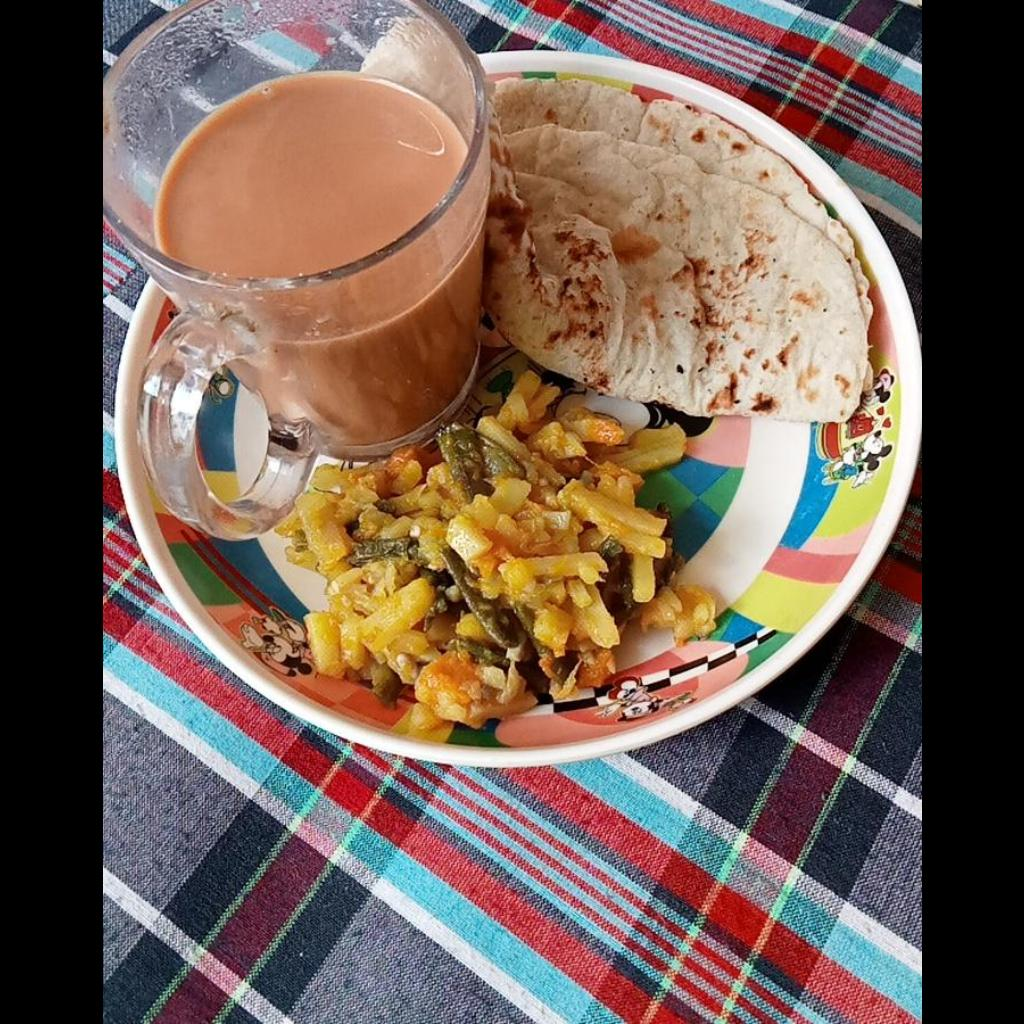cha: (158, 76, 462, 275)
ruti: (490, 77, 877, 422)
vaji: (278, 371, 727, 721)
